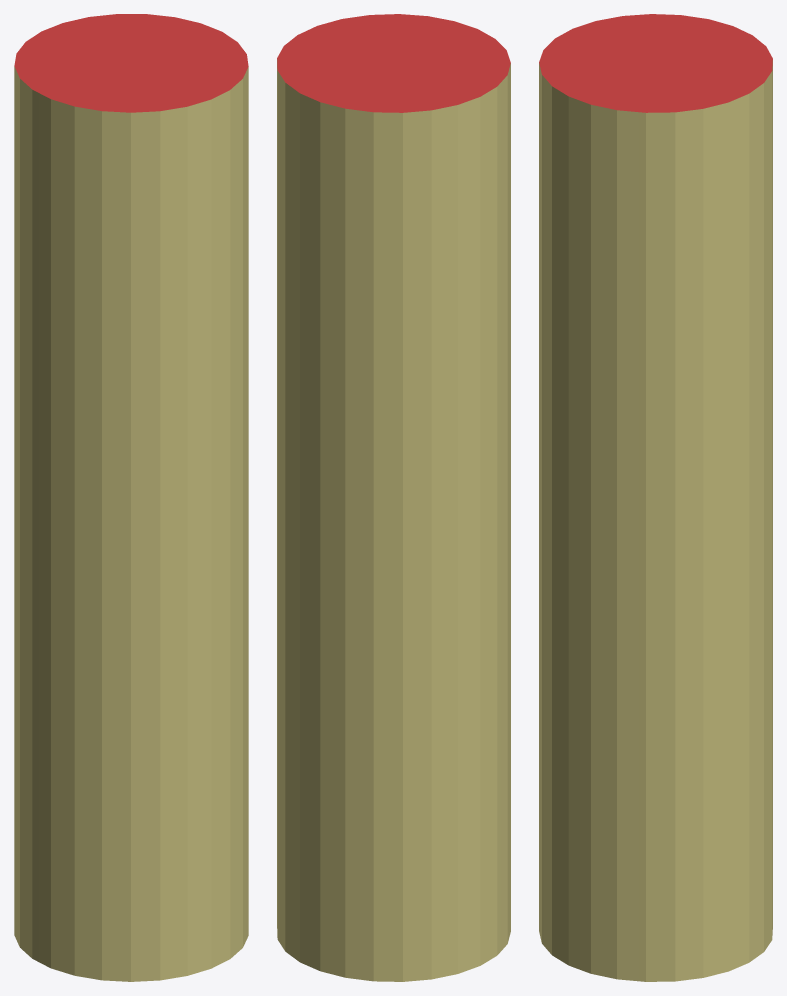
3 renders of one model, left to right at view 1: azimuth 30°, elevation 25°; view 2: azimuth 150°, elevation 25°; view 3: azimuth 270°, elevation 25°, orthographic.
Bounding box in the file's own units: 2.3 × 2.3 × 9.42.
